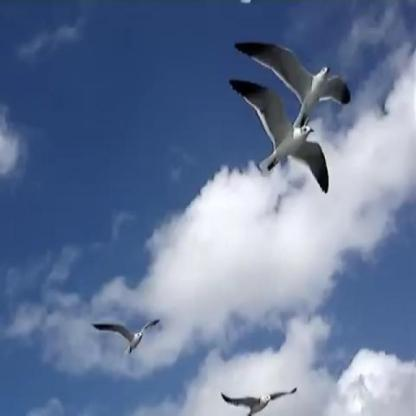bird: (223, 81, 344, 193), (223, 24, 352, 128), (91, 315, 175, 367), (221, 386, 302, 416)
